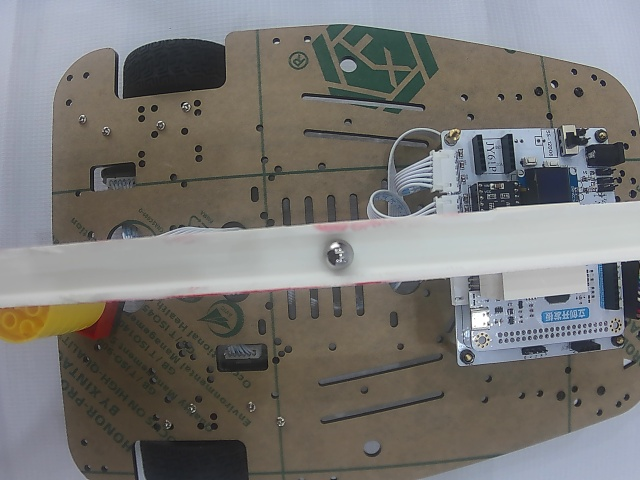steelball: (323, 238, 354, 268)
